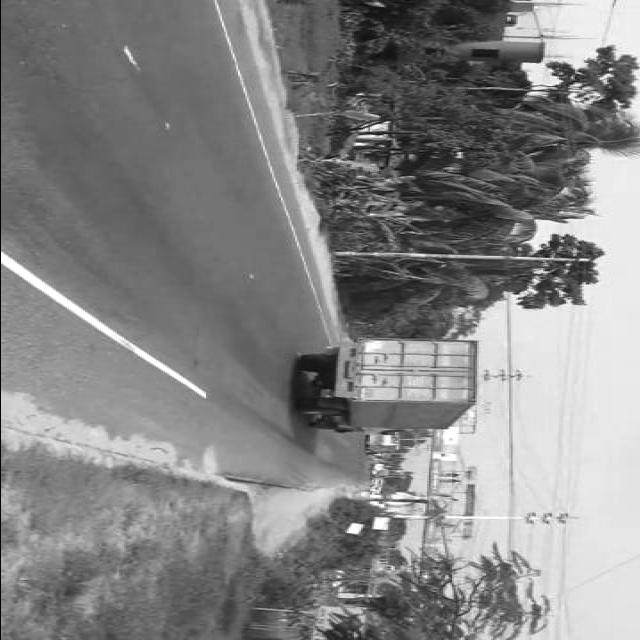truck: (292, 332, 484, 435)
